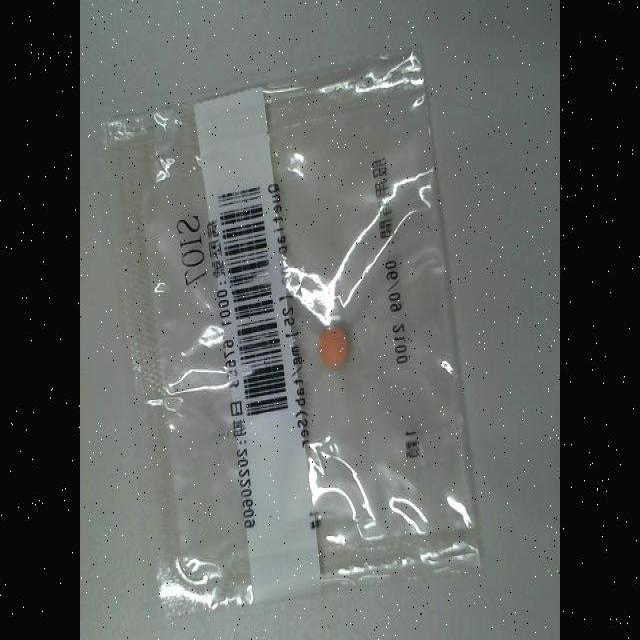pill: (318, 326, 352, 368)
